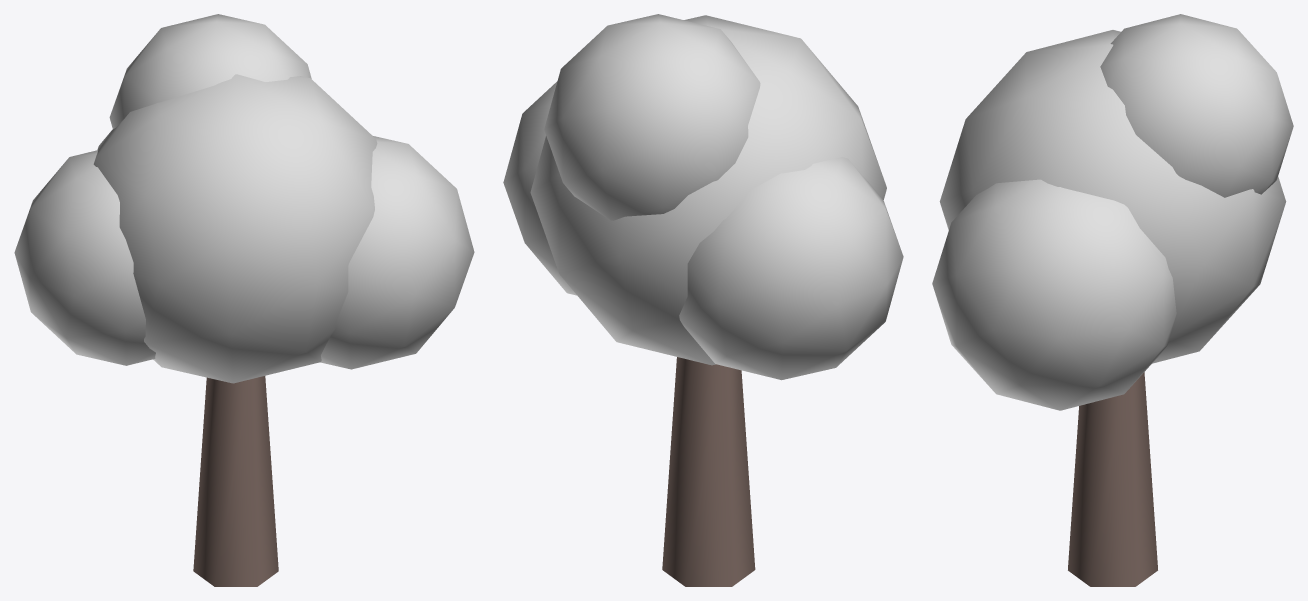
Rendered from round_0.glb.
The picture shows the model from 3 angles, left to right: view 1: azimuth 30°, elevation 25°; view 2: azimuth 150°, elevation 25°; view 3: azimuth 270°, elevation 25°; orthographic projection. The views are drawn at different scales.
Parts seen in each view (by area): view 1: round_0; view 2: round_0; view 3: round_0.
Part boxes in pixels (x1,y1,x2,y2): round_0: [14, 14, 474, 586]; round_0: [503, 14, 903, 586]; round_0: [932, 14, 1293, 586].
Size of the model in its own units: 3.1 by 4.05 by 2.4.
